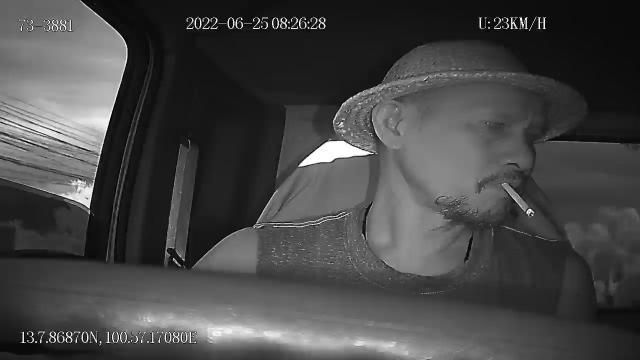SafeDriving: (464, 104, 518, 136)
Smoking: (502, 178, 534, 218)
